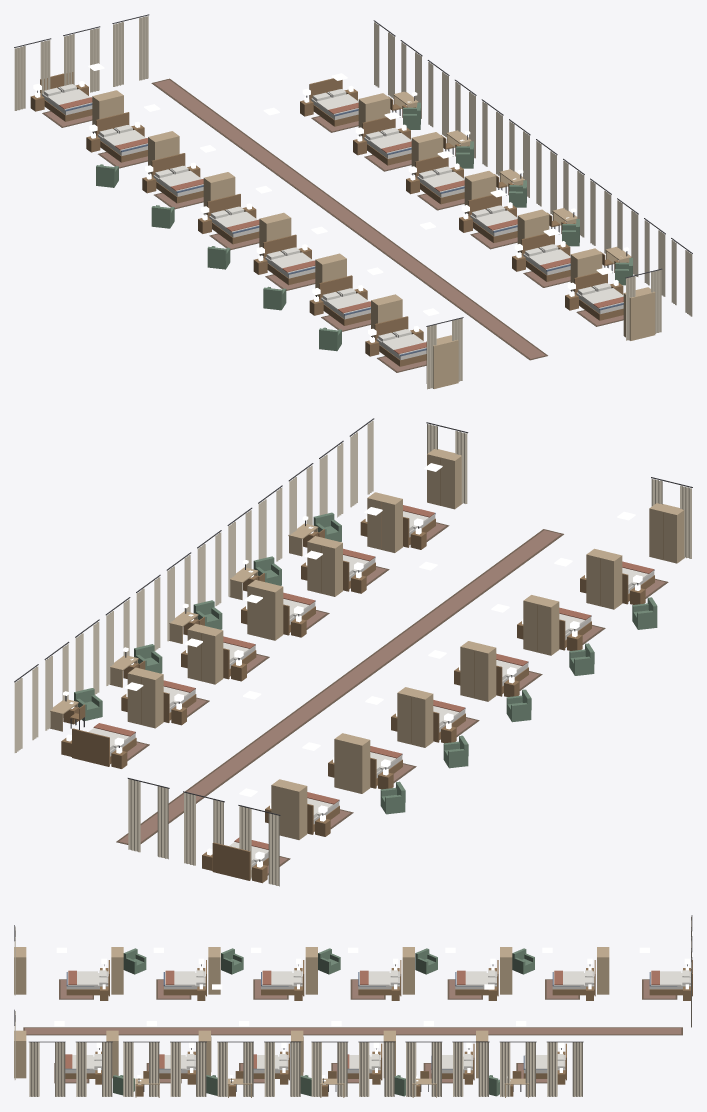
Rendered from fine-s4.glb.
3 renders of one model, top to bottom at view 1: azimuth 30°, elevation 25°; view 2: azimuth 150°, elevation 25°; view 3: azimuth 270°, elevation 25°, orthographic. The views are drawn at different scales.
Visible parts, largest first — view 1: soft-s4, dresser.044, dresser.051, bed-frame.047, bed-frame.051, bed-frame.049, bed-frame.046, bed-frame.050, bed-frame.048, bed-frame.039, bed-frame.043, bed-frame.044 (+15 smaller); view 2: soft-s4, dresser.046, dresser.047, dresser.050, dresser.048, dresser.049, dresser.051, dresser.040, dresser.041, dresser.039, dresser.042, dresser.043 (+4 smaller); view 3: soft-s4, dresser.044, dresser.045, dresser.046, dresser.047, dresser.048, dresser.050, dresser.051, dresser.049, bed-frame.048, bed-frame.051, bed-frame.046 (+11 smaller).
Boxes of the visible parts, bbox=[...] form: soft-s4: bbox=[14, 14, 692, 389]; dresser.044: bbox=[623, 287, 655, 340]; dresser.051: bbox=[426, 335, 458, 388]; bed-frame.047: bbox=[151, 153, 203, 203]; bed-frame.051: bbox=[374, 316, 426, 366]; bed-frame.049: bbox=[263, 234, 315, 285]; bed-frame.046: bbox=[96, 112, 147, 162]; bed-frame.050: bbox=[319, 275, 370, 325]; bed-frame.048: bbox=[207, 194, 259, 244]; bed-frame.039: bbox=[309, 78, 358, 126]; bed-frame.043: bbox=[521, 233, 570, 281]; bed-frame.044: bbox=[574, 272, 623, 320]; soft-s4: bbox=[14, 418, 692, 886]; dresser.046: bbox=[334, 733, 370, 793]; dresser.047: bbox=[397, 687, 433, 747]; dresser.050: bbox=[586, 548, 622, 609]; dresser.048: bbox=[460, 641, 496, 701]; dresser.049: bbox=[523, 595, 559, 655]; dresser.051: bbox=[649, 503, 684, 563]; dresser.040: bbox=[187, 623, 223, 684]; dresser.041: bbox=[247, 580, 283, 640]; dresser.039: bbox=[127, 667, 163, 728]; dresser.042: bbox=[307, 536, 342, 596]; dresser.043: bbox=[367, 492, 402, 552]; soft-s4: bbox=[14, 915, 692, 1096]; dresser.044: bbox=[14, 1030, 26, 1078]; dresser.045: bbox=[597, 947, 609, 994]; dresser.046: bbox=[500, 947, 512, 994]; dresser.047: bbox=[402, 947, 414, 994]; dresser.048: bbox=[305, 947, 317, 994]; dresser.050: bbox=[111, 947, 123, 994]; dresser.051: bbox=[14, 947, 26, 994]; dresser.049: bbox=[208, 947, 220, 994]; bed-frame.048: bbox=[358, 960, 401, 996]; bed-frame.051: bbox=[66, 960, 109, 996]; bed-frame.046: bbox=[552, 960, 595, 996].
Bounding box in the file's own units: 15.26 × 3.01 × 32.93.
